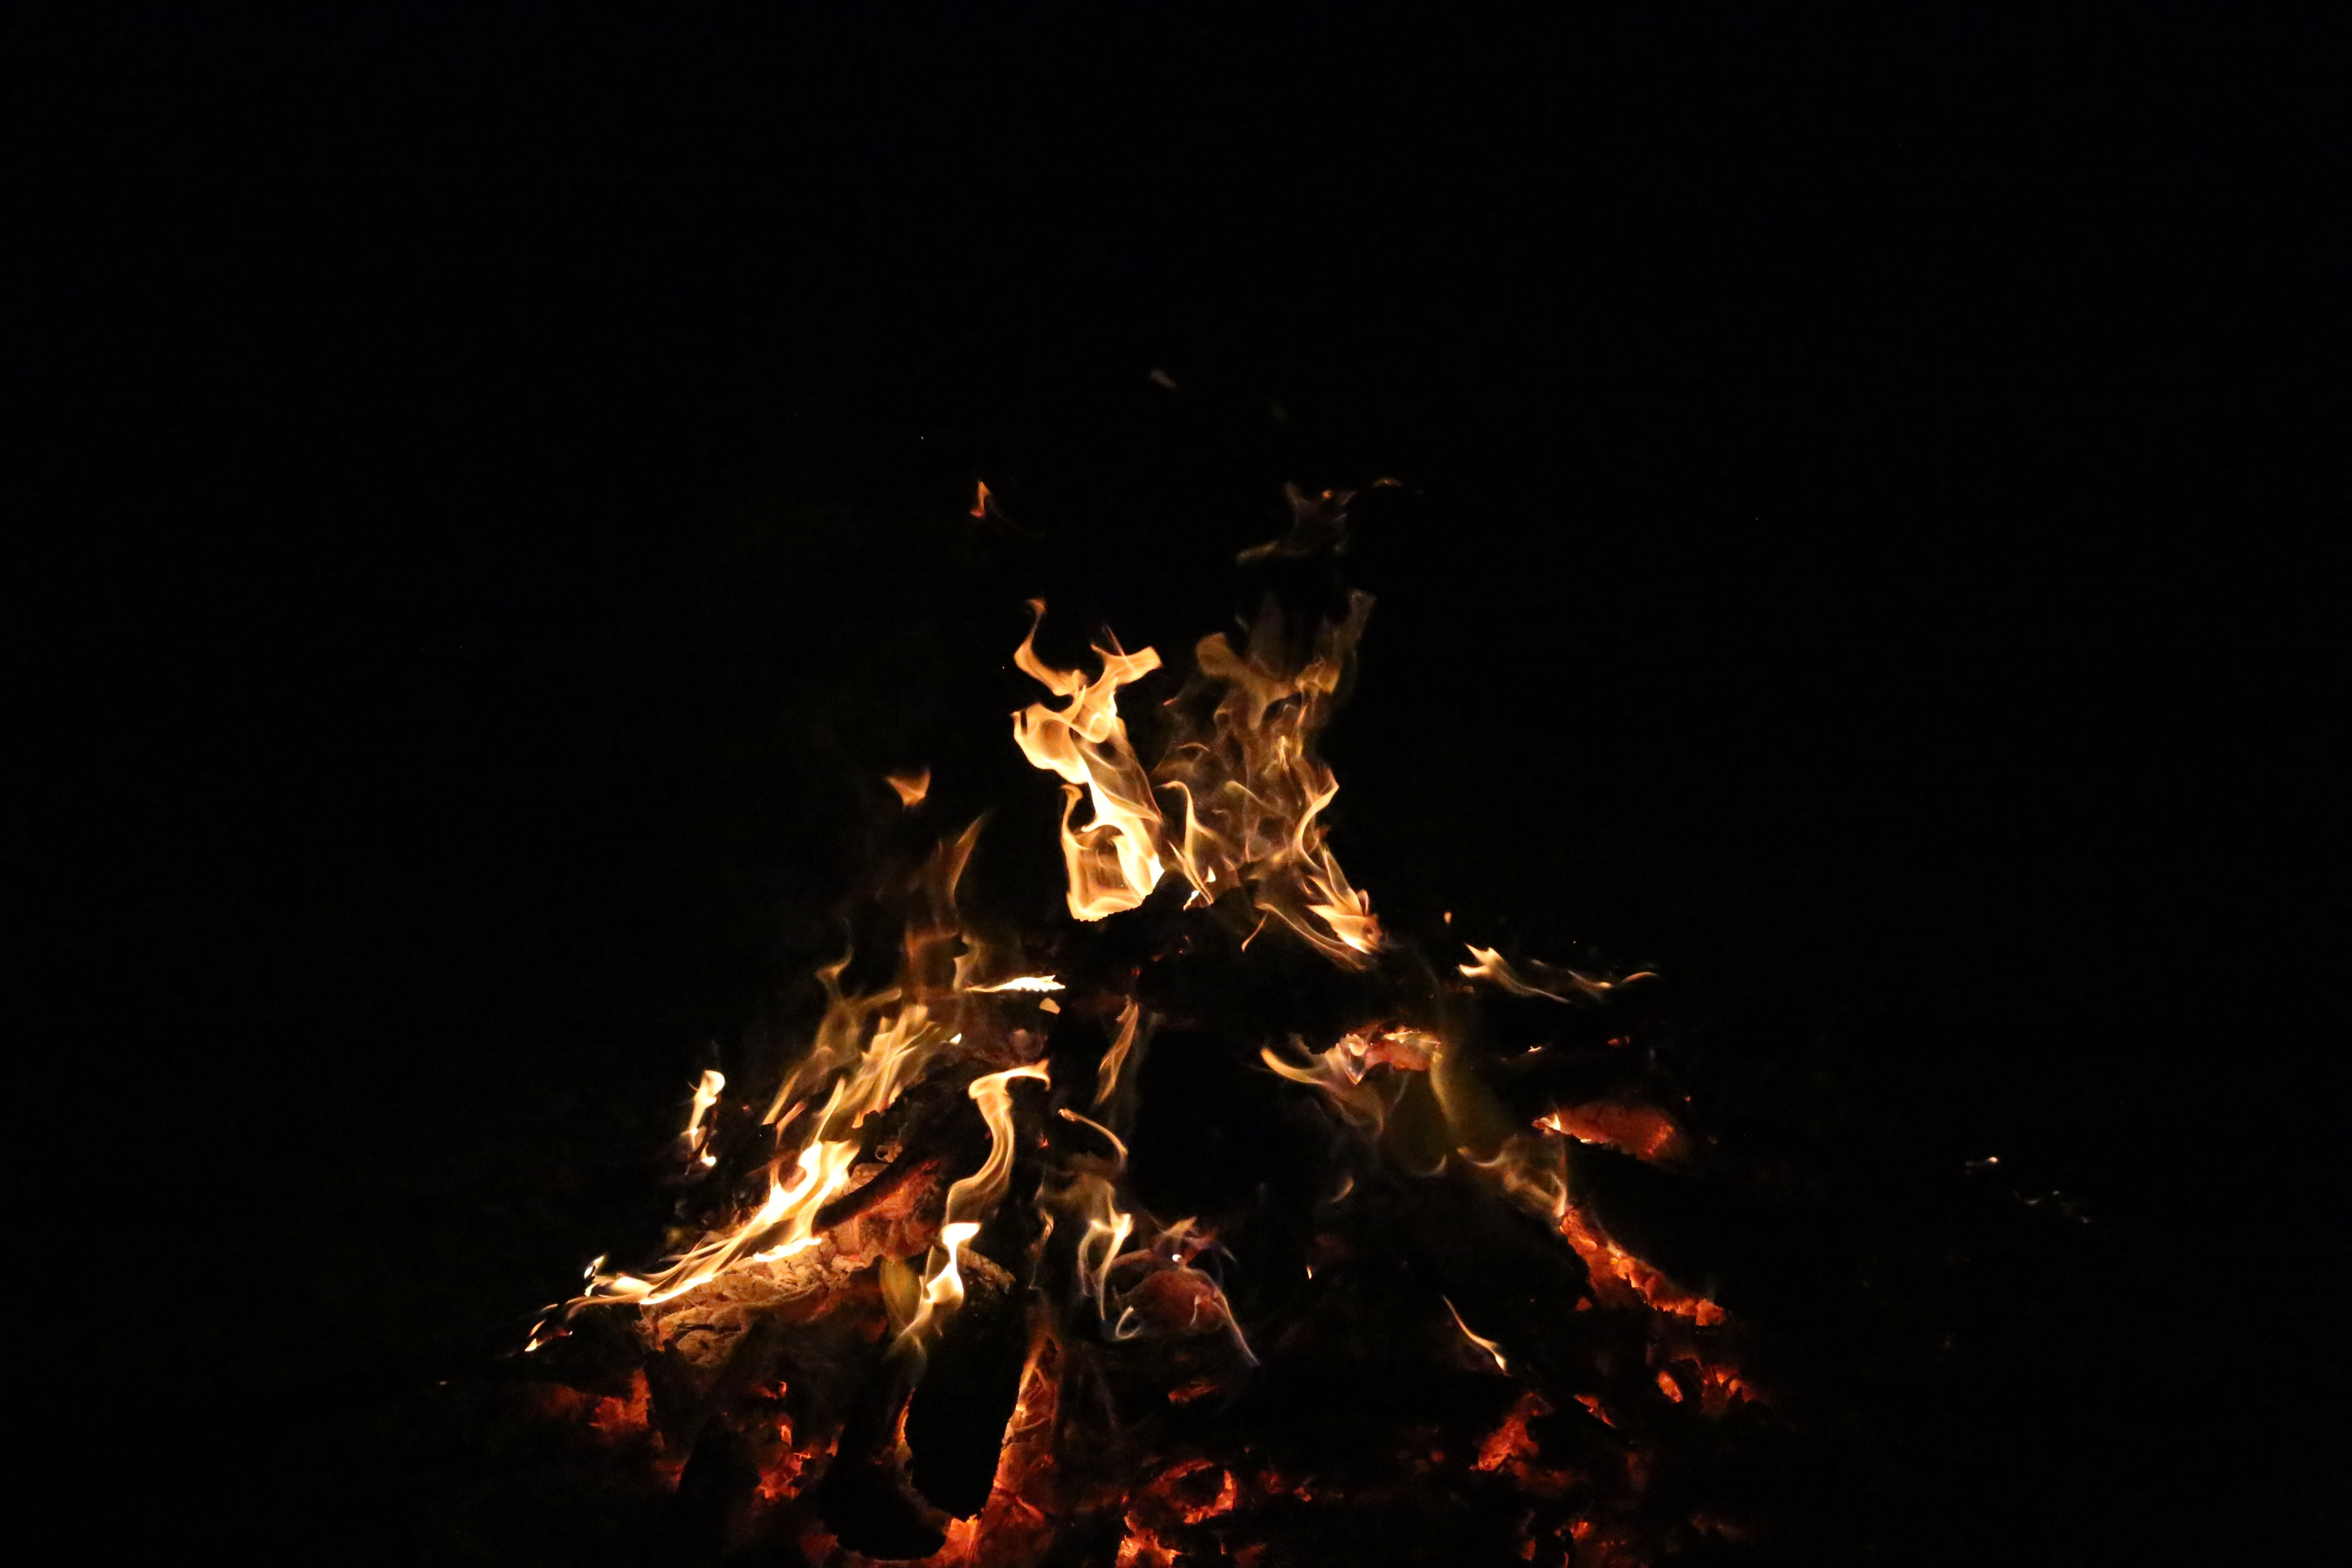fire: (528, 551, 1748, 1568)
